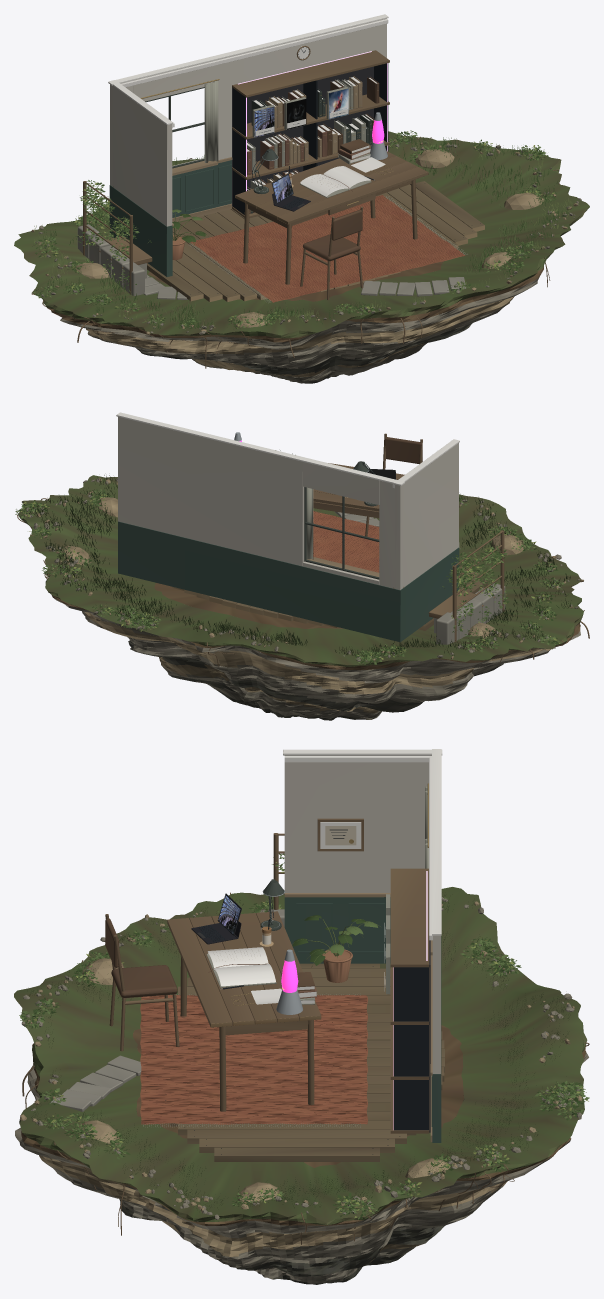
The model's file is orbit-writing-439449d7.glb.
3 views of the same model, one above another, from view 1: azimuth 30°, elevation 25°; view 2: azimuth 150°, elevation 25°; view 3: azimuth 270°, elevation 25° (orthographic). The views are drawn at different scales.
Parts seen in each view (by area): view 1: Writing island · browser materials; view 2: Writing island · browser materials; view 3: Writing island · browser materials.
Boxes of the visible parts, x1=… form: Writing island · browser materials: x1=14, y1=14, x2=589, y2=383; Writing island · browser materials: x1=15, y1=412, x2=589, y2=720; Writing island · browser materials: x1=14, y1=749, x2=589, y2=1284.
Bounding box in the file's own units: 11.74 × 6.45 × 8.17.
44 materials, 4 textured.
